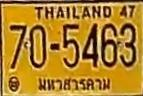0: (29, 24, 46, 67)
3: (118, 22, 136, 66)
4: (82, 23, 97, 66)
5: (62, 24, 79, 68)
6: (100, 23, 117, 66)
7: (9, 24, 26, 68), (9, 24, 26, 53)
MKM: (35, 74, 112, 92)
